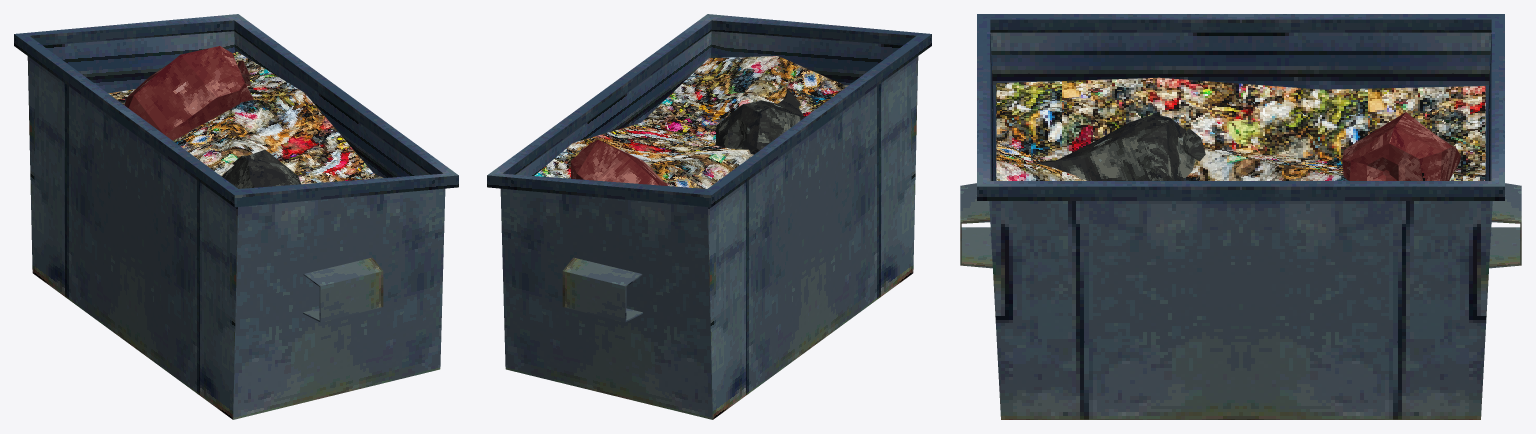
Rendered from dumpster_diagonal_full_no_lid_blue.glb.
The picture shows the model from 3 angles, left to right: view 1: azimuth 30°, elevation 25°; view 2: azimuth 150°, elevation 25°; view 3: azimuth 270°, elevation 25°; orthographic projection. The views are drawn at different scales.
Visible parts, largest first — view 1: dumpster_diagonal_full_no_lid_blue; view 2: dumpster_diagonal_full_no_lid_blue; view 3: dumpster_diagonal_full_no_lid_blue.
Part boxes in pixels (left/top/right/bottom): dumpster_diagonal_full_no_lid_blue: left=14, top=14, right=458, bottom=419; dumpster_diagonal_full_no_lid_blue: left=487, top=14, right=931, bottom=419; dumpster_diagonal_full_no_lid_blue: left=960, top=14, right=1521, bottom=419.
Size of the model in its own units: 2.03 by 2.02 by 3.67.
3 materials, 3 textured.
